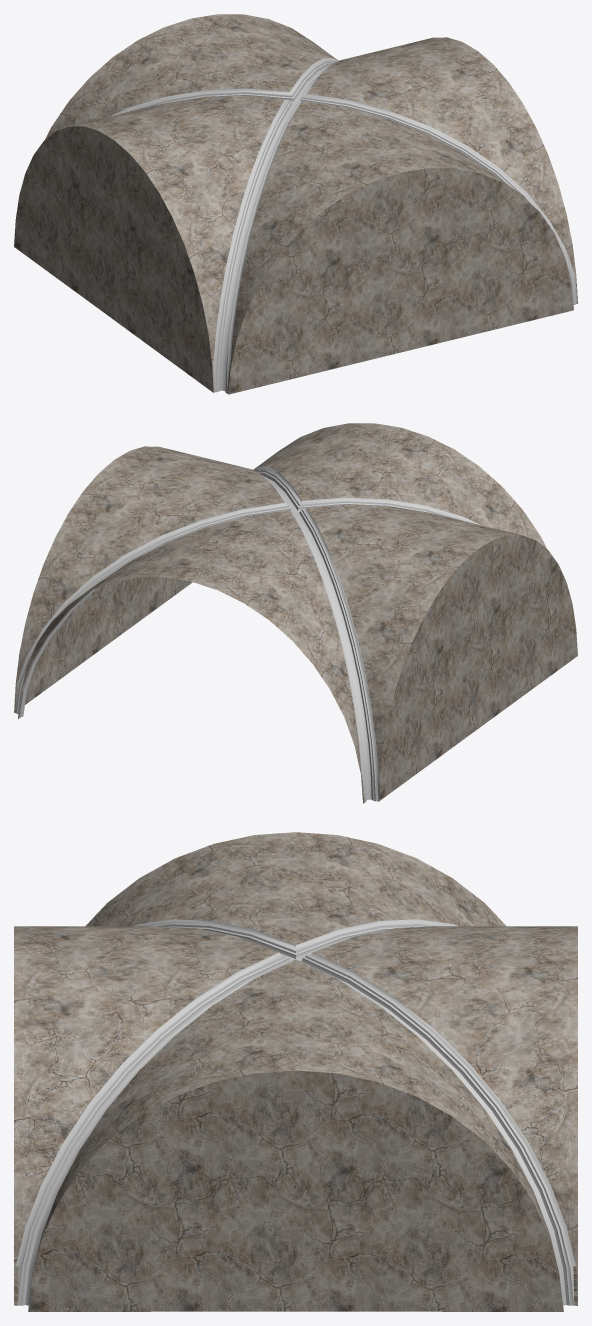
The picture shows the model from 3 angles, top to bottom: view 1: azimuth 30°, elevation 25°; view 2: azimuth 150°, elevation 25°; view 3: azimuth 270°, elevation 25°; orthographic projection. The views are drawn at different scales.
Parts seen in each view (by area): view 1: SM_Ceiling02c_v2_LOD0; view 2: SM_Ceiling02c_v2_LOD0; view 3: SM_Ceiling02c_v2_LOD0.
Part boxes in pixels (x1=…): SM_Ceiling02c_v2_LOD0: x1=14, y1=14, x2=577, y2=394; SM_Ceiling02c_v2_LOD0: x1=14, y1=423, x2=577, y2=803; SM_Ceiling02c_v2_LOD0: x1=14, y1=832, x2=577, y2=1311.
Bounding box in the file's own units: 8 × 3.78 × 8.
